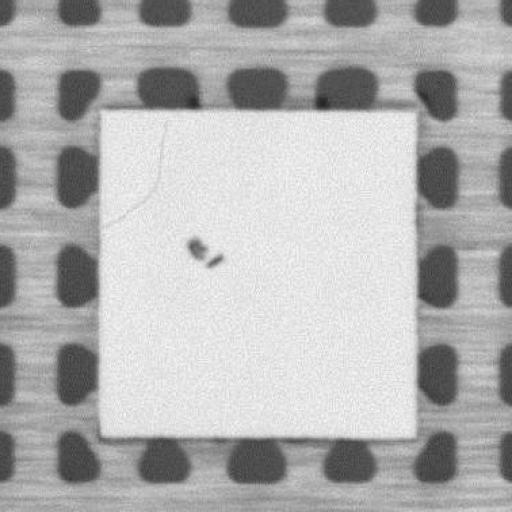DIE_CRACK: (104, 119, 171, 226)
